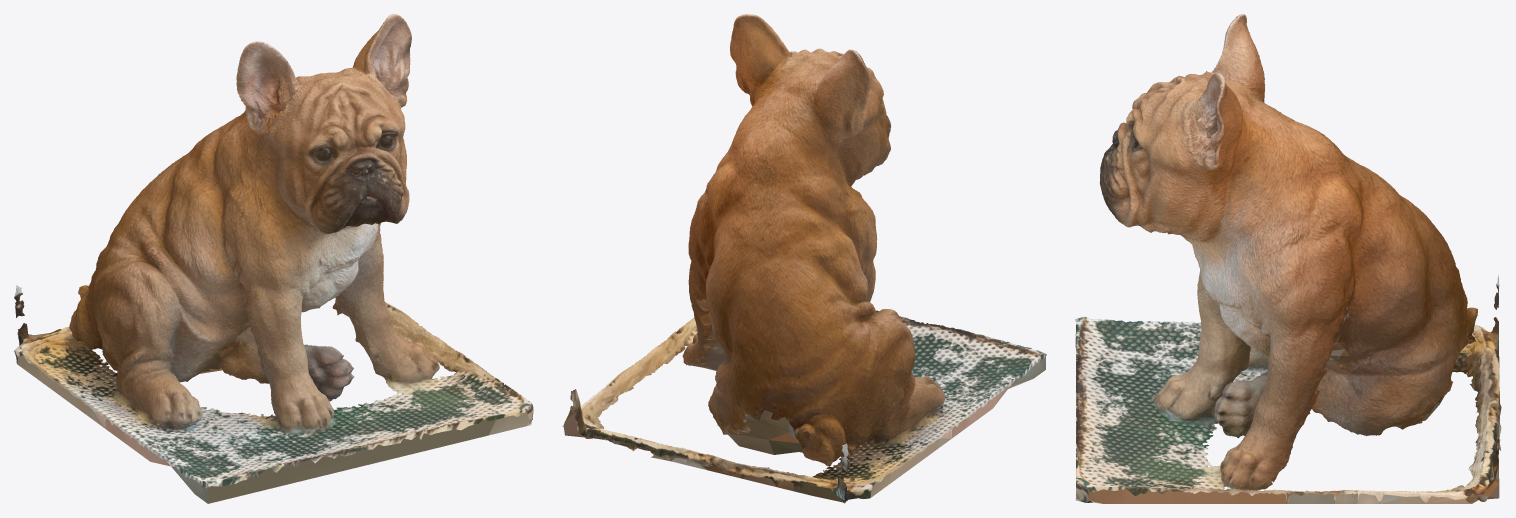
Rendered from french_bulldog.glb.
The picture shows the model from 3 angles, left to right: view 1: azimuth 30°, elevation 25°; view 2: azimuth 150°, elevation 25°; view 3: azimuth 270°, elevation 25°; orthographic projection. The views are drawn at different scales.
Visible parts, largest first — view 1: model_tex_u1_v1_0; view 2: model_tex_u1_v1_0; view 3: model_tex_u1_v1_0.
Boxes of the visible parts, x1,y1,x2,y2 form: model_tex_u1_v1_0: (14, 14, 533, 503); model_tex_u1_v1_0: (562, 14, 1046, 503); model_tex_u1_v1_0: (1075, 14, 1501, 503).
Bounding box in the file's own units: 0.3657 × 0.3976 × 0.3926.
1 material, 1 textured.
